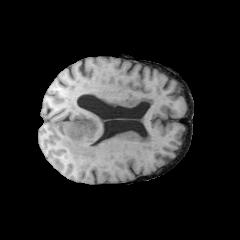glioma: (58, 106, 110, 170)
